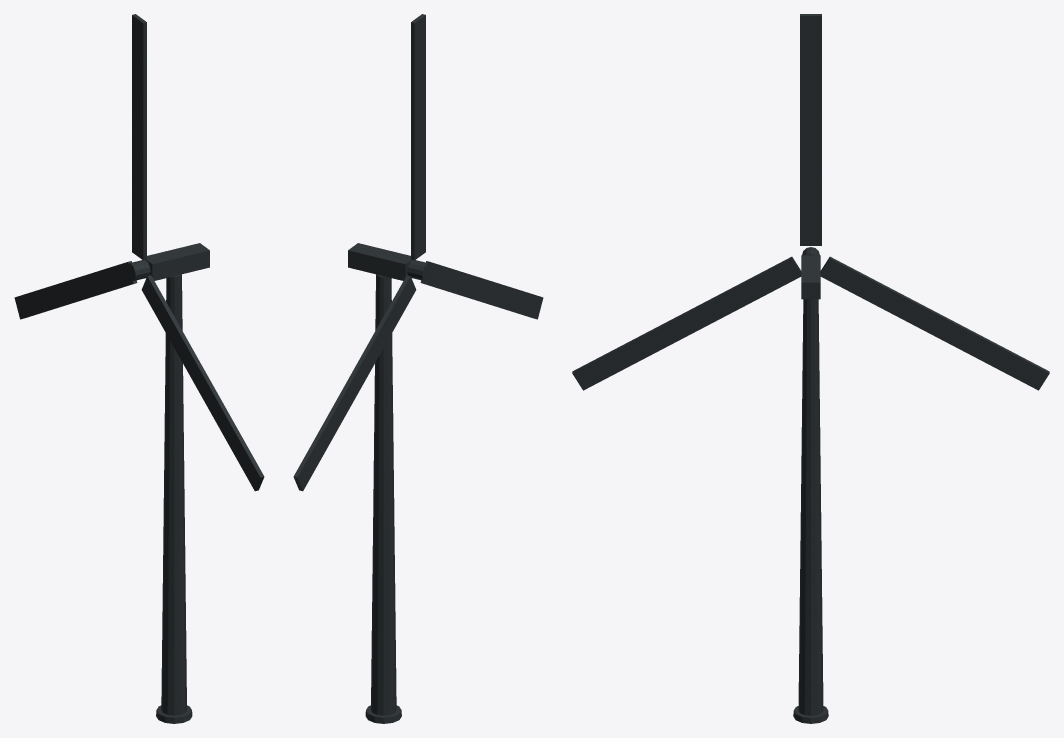
The model's file is PZ_Wind_Turbine_Collision_Helpers.glb.
3 views of the same model, side by side, from view 1: azimuth 30°, elevation 25°; view 2: azimuth 150°, elevation 25°; view 3: azimuth 270°, elevation 25° (orthographic). The views are drawn at different scales.
Visible parts, largest first — view 1: UCX_TOWER_TaperedBody, UCX_BLADE_2_Coarse, UCX_BLADE_1_Coarse, UCX_BLADE_3_Coarse, UCX_NACELLE_Housing, UCX_ROTOR_Center; view 2: UCX_TOWER_TaperedBody, UCX_BLADE_3_Coarse, UCX_BLADE_1_Coarse, UCX_BLADE_2_Coarse, UCX_NACELLE_Housing, UCX_ROTOR_Center; view 3: UCX_TOWER_TaperedBody, UCX_BLADE_2_Coarse, UCX_BLADE_3_Coarse, UCX_BLADE_1_Coarse, UCX_NACELLE_Housing.
Boxes of the visible parts, box(x1,y1,x2,y2) form: UCX_TOWER_TaperedBody: box(161, 274, 186, 715); UCX_BLADE_2_Coarse: box(141, 275, 264, 491); UCX_BLADE_1_Coarse: box(132, 14, 146, 260); UCX_BLADE_3_Coarse: box(14, 261, 137, 319); UCX_NACELLE_Housing: box(146, 243, 209, 280); UCX_ROTOR_Center: box(126, 260, 150, 281); UCX_TOWER_TaperedBody: box(371, 274, 396, 715); UCX_BLADE_3_Coarse: box(293, 275, 416, 491); UCX_BLADE_1_Coarse: box(411, 14, 425, 260); UCX_BLADE_2_Coarse: box(420, 261, 543, 319); UCX_NACELLE_Housing: box(348, 243, 411, 280); UCX_ROTOR_Center: box(407, 260, 431, 281); UCX_TOWER_TaperedBody: box(798, 299, 823, 715); UCX_BLADE_2_Coarse: box(572, 256, 801, 390); UCX_BLADE_3_Coarse: box(820, 256, 1049, 390); UCX_BLADE_1_Coarse: box(800, 14, 821, 245); UCX_NACELLE_Housing: box(801, 255, 820, 299).
Bounding box in the file's own units: 15.75 × 144 × 90.85.
1 material, 1 textured.
